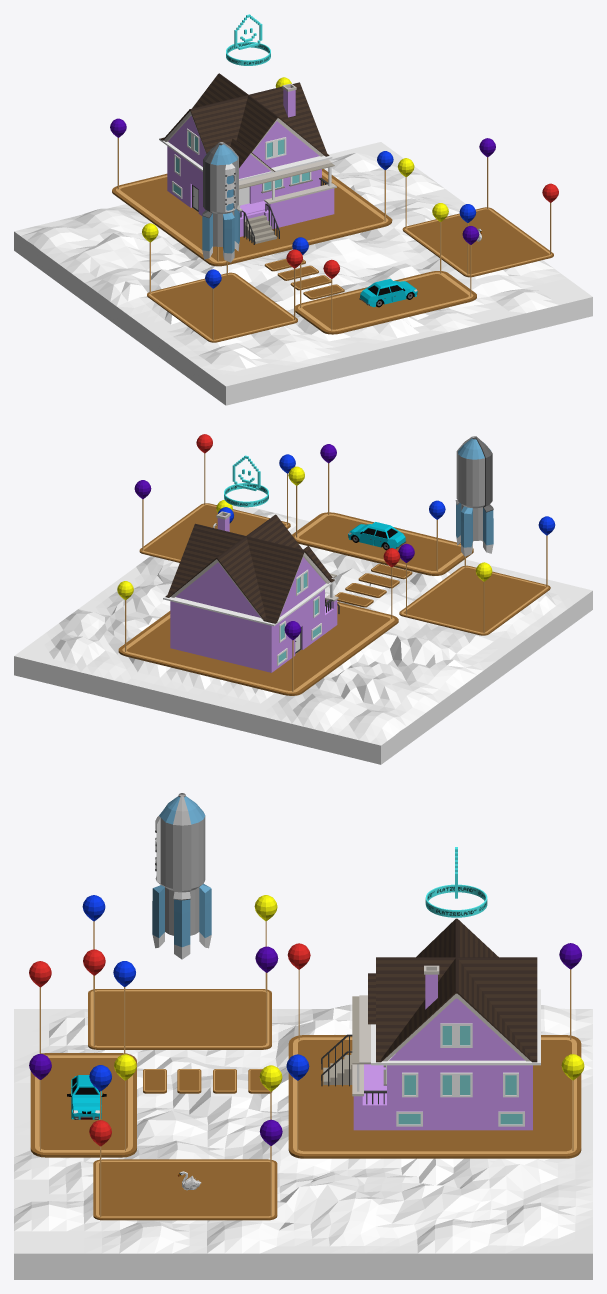
The picture shows the model from 3 angles, top to bottom: view 1: azimuth 30°, elevation 25°; view 2: azimuth 150°, elevation 25°; view 3: azimuth 270°, elevation 25°; orthographic projection. The views are drawn at different scales.
Visible parts, largest first — view 1: Cube.013, Cube.391, OBJRANDOM_ROCKETSHIP, VEHICLES_CAR, TYPE_PREMIUM; view 2: Cube.013, Cube.391, OBJRANDOM_ROCKETSHIP, VEHICLES_CAR, TYPE_PREMIUM; view 3: Cube.013, Cube.391, OBJRANDOM_ROCKETSHIP, VEHICLES_CAR, TYPE_PREMIUM.
Boxes of the visible parts, x1=… form: Cube.013: x1=14, y1=77, x2=592, y2=405; Cube.391: x1=159, y1=73, x2=336, y2=244; OBJRANDOM_ROCKETSHIP: x1=202, y1=142, x2=239, y2=262; VEHICLES_CAR: x1=359, y1=279, x2=417, y2=307; TYPE_PREMIUM: x1=226, y1=14, x2=270, y2=65; Cube.013: x1=14, y1=434, x2=592, y2=764; Cube.391: x1=163, y1=511, x2=339, y2=672; OBJRANDOM_ROCKETSHIP: x1=455, y1=436, x2=493, y2=556; VEHICLES_CAR: x1=348, y1=522, x2=406, y2=550; TYPE_PREMIUM: x1=224, y1=455, x2=268, y2=507; Cube.013: x1=14, y1=895, x2=592, y2=1279; Cube.391: x1=321, y1=918, x2=540, y2=1130; OBJRANDOM_ROCKETSHIP: x1=152, y1=793, x2=211, y2=959; VEHICLES_CAR: x1=67, y1=1075, x2=106, y2=1119; TYPE_PREMIUM: x1=425, y1=847, x2=487, y2=917.
Size of the model in its own units: 4000 by 2544 by 4000.
Materials: 39 (2 with a texture image).
